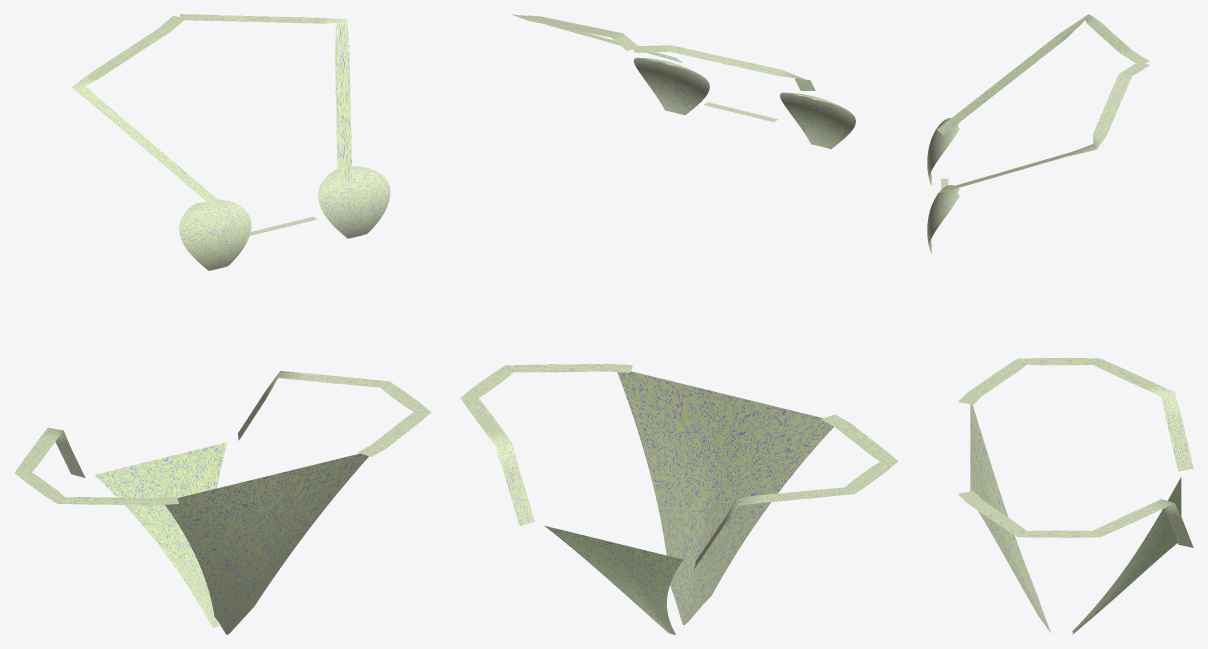
File: bikini_9e7a501a.obj
The picture shows the model from 3 angles, left to right: view 1: azimuth 30°, elevation 25°; view 2: azimuth 150°, elevation 25°; view 3: azimuth 270°, elevation 25°; orthographic projection. The views are drawn at different scales.
Parts seen in each view (by area): view 1: bottom_front_highcut, bottom_back_thong, cup_right_triangle, cup_left_triangle, strap_right_halter, strap_left_halter, bottom_strap_left_tie, bottom_strap_right_tie; view 2: bottom_front_highcut, bottom_back_thong, bottom_strap_right_tie, bottom_strap_left_tie, cup_right_triangle, cup_left_triangle, strap_left_halter, strap_right_halter; view 3: bottom_strap_left_tie, bottom_front_highcut, bottom_strap_right_tie, bottom_back_thong, strap_left_halter, strap_right_halter, cup_right_triangle, cup_left_triangle.
Part boxes in pixels (box(x1,y1,x2,y2)): bottom_front_highcut: box(165, 453, 368, 634); bottom_back_thong: box(94, 442, 227, 627); cup_right_triangle: box(318, 166, 390, 238); cup_left_triangle: box(179, 199, 251, 270); strap_right_halter: box(179, 14, 352, 180); strap_left_halter: box(71, 15, 226, 211); bottom_strap_left_tie: box(14, 427, 178, 505); bottom_strap_right_tie: box(238, 371, 431, 456); bottom_front_highcut: box(617, 371, 833, 625); bottom_back_thong: box(544, 525, 683, 634); bottom_strap_right_tie: box(460, 363, 632, 525); bottom_strap_left_tie: box(694, 414, 898, 568); cup_right_triangle: box(633, 57, 709, 115); cup_left_triangle: box(780, 92, 855, 148); strap_left_halter: box(633, 45, 815, 90); strap_right_halter: box(510, 14, 682, 62); bottom_strap_left_tie: box(958, 358, 1193, 471); bottom_front_highcut: box(970, 404, 1050, 632); bottom_strap_right_tie: box(958, 491, 1193, 547); bottom_back_thong: box(1072, 477, 1181, 634); strap_left_halter: box(937, 14, 1149, 134); strap_right_halter: box(937, 63, 1149, 193); cup_right_triangle: box(927, 185, 959, 253); cup_left_triangle: box(927, 118, 959, 185).
Bounding box in the file's own units: 0.4474 × 0.6615 × 0.2805.
Materials: 1 (1 with a texture image).
